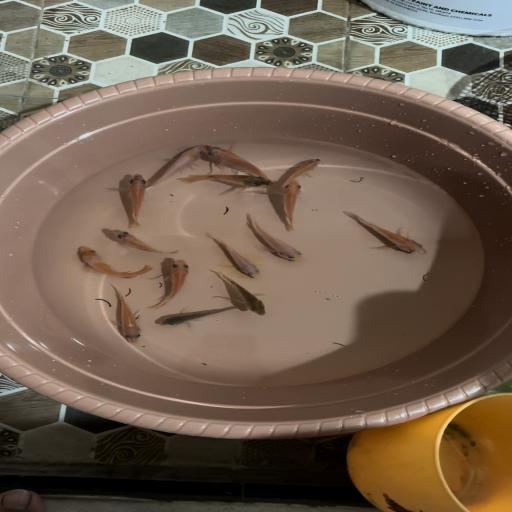nila: (342, 210, 433, 258), (92, 285, 149, 346), (240, 214, 308, 264), (202, 234, 262, 282), (216, 268, 272, 317), (65, 247, 148, 280), (106, 224, 184, 259), (152, 302, 234, 335), (152, 142, 206, 191), (203, 144, 269, 184), (151, 255, 197, 307), (178, 172, 272, 196), (114, 170, 150, 224), (278, 155, 326, 191), (275, 181, 309, 230)
